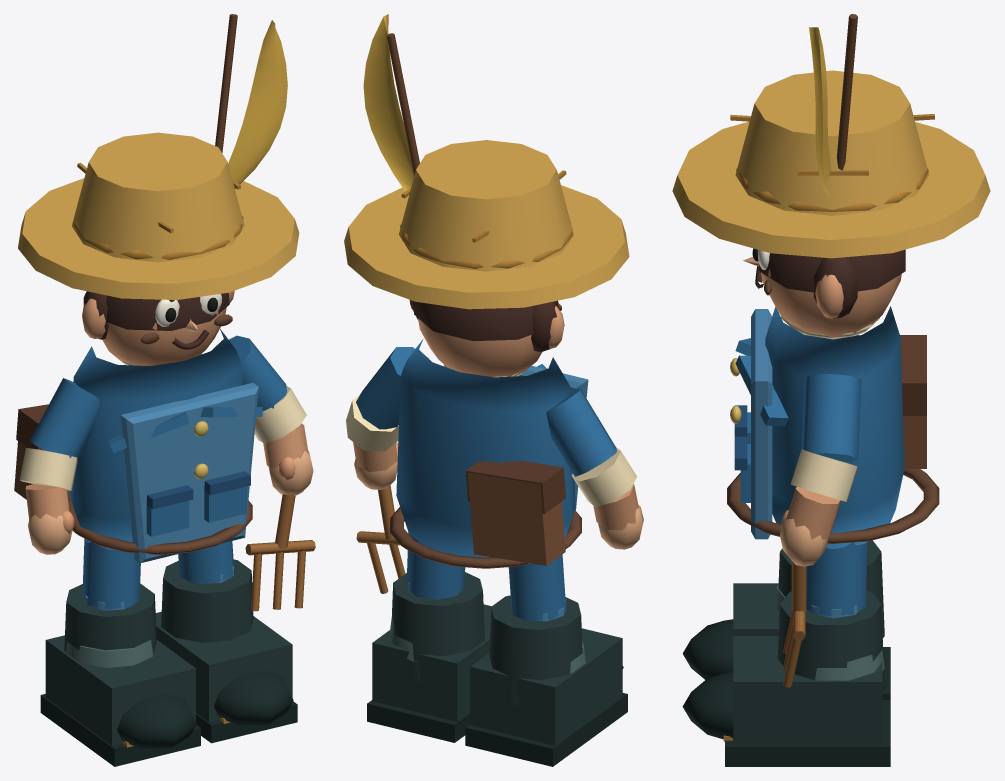
File: low-poly-farmer.glb
The picture shows the model from 3 angles, left to right: view 1: azimuth 30°, elevation 25°; view 2: azimuth 150°, elevation 25°; view 3: azimuth 270°, elevation 25°; orthographic projection. The views are drawn at different scales.
Visible parts, largest first — view 1: StrawHat, WaterproofBoots, Arms, BibOverall, OverallTorso, Head, BlueOveralls, OverallsLegs, GoldenFeather, Pitchfork, BackSatchel; view 2: StrawHat, WaterproofBoots, OverallTorso, Arms, BackSatchel, Head, OverallsLegs, GoldenFeather, BlueOveralls, Pitchfork, BibOverall; view 3: StrawHat, WaterproofBoots, OverallTorso, Arms, Head, BlueOveralls, OverallsLegs, BibOverall, BackSatchel, GoldenFeather, Pitchfork.
Part boxes in pixels (box(x1,y1,x2,y2)): StrawHat: box(18, 14, 299, 299); WaterproofBoots: box(40, 559, 297, 766); Arms: box(19, 335, 313, 554); BibOverall: box(120, 382, 258, 563); OverallTorso: box(69, 329, 242, 549); Head: box(82, 291, 234, 365); BlueOveralls: box(68, 353, 262, 554); OverallsLegs: box(66, 538, 233, 667); GoldenFeather: box(228, 20, 287, 188); Pitchfork: box(245, 494, 315, 611); BackSatchel: box(14, 404, 70, 499); StrawHat: box(344, 33, 629, 309); WaterproofBoots: box(367, 572, 627, 766); OverallTorso: box(396, 338, 575, 563); Arms: box(346, 347, 643, 549); BackSatchel: box(465, 461, 565, 565); Head: box(409, 300, 564, 376); OverallsLegs: box(390, 532, 585, 673); GoldenFeather: box(363, 14, 414, 196); BlueOveralls: box(390, 364, 581, 568); Pitchfork: box(356, 485, 405, 593); BibOverall: box(518, 366, 588, 511); StrawHat: box(672, 14, 990, 258); WaterproofBoots: box(682, 540, 890, 766); OverallTorso: box(765, 306, 904, 548); Arms: box(780, 335, 861, 566); Head: box(743, 248, 905, 337); BlueOveralls: box(727, 316, 939, 543); OverallsLegs: box(774, 542, 884, 680); BibOverall: box(751, 309, 772, 539); BackSatchel: box(900, 335, 926, 468); GoldenFeather: box(809, 27, 832, 197); Pitchfork: box(783, 561, 806, 687).
Bounding box in the file's own units: 2.16 × 4.88 × 1.88.
